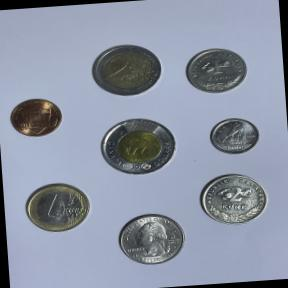coin: (93, 111, 181, 182), (86, 38, 167, 101), (112, 208, 190, 272), (193, 168, 272, 230), (18, 178, 96, 240), (204, 112, 264, 160), (6, 93, 66, 141)
